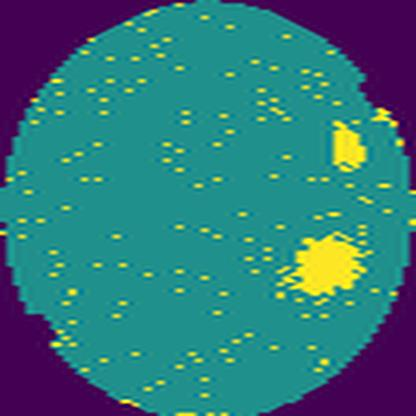Loc: (276, 226, 370, 300), (329, 121, 367, 170)
